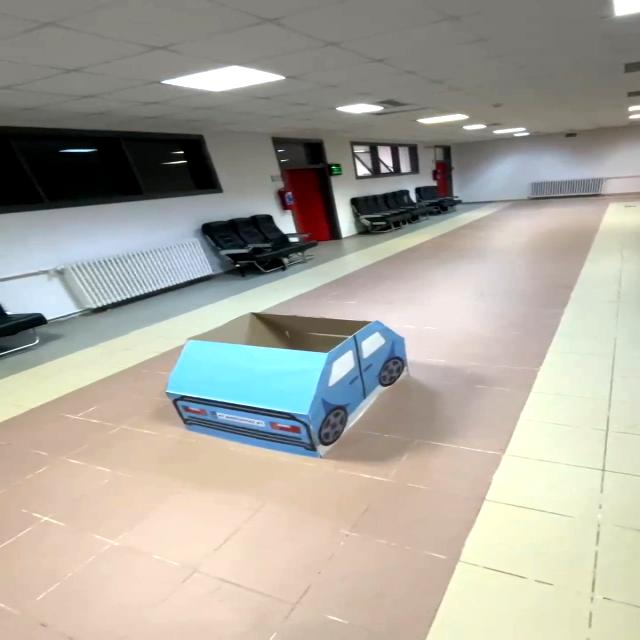blue_car: (140, 299, 424, 467)
